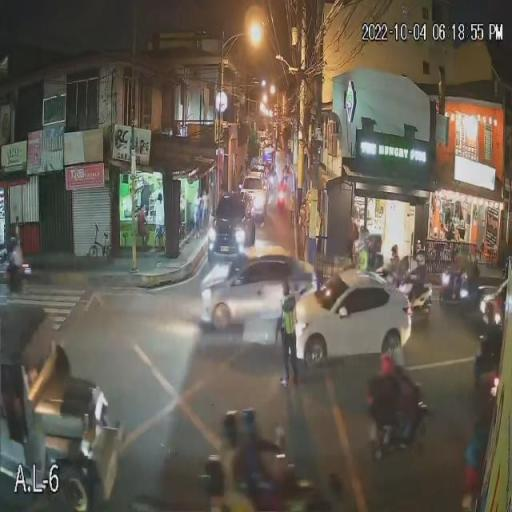helmet: (239, 409, 256, 426), (380, 354, 394, 372), (406, 254, 420, 270)
motorcycle: (204, 406, 338, 512), (366, 356, 430, 462), (438, 258, 480, 318), (372, 252, 413, 306), (402, 254, 436, 316), (6, 235, 31, 295)
rider: (232, 408, 286, 512), (366, 354, 420, 448), (213, 410, 254, 512), (444, 260, 466, 302), (7, 235, 26, 283), (386, 244, 408, 284), (406, 251, 424, 295)
